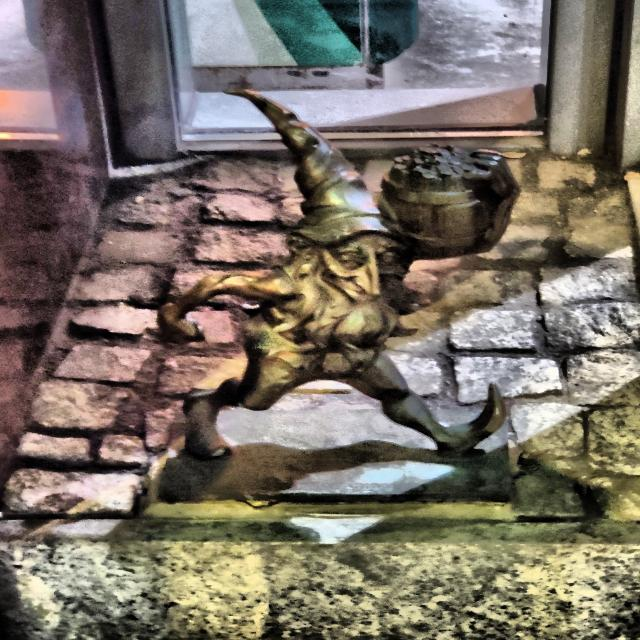Leprykonus: (137, 84, 535, 488)
